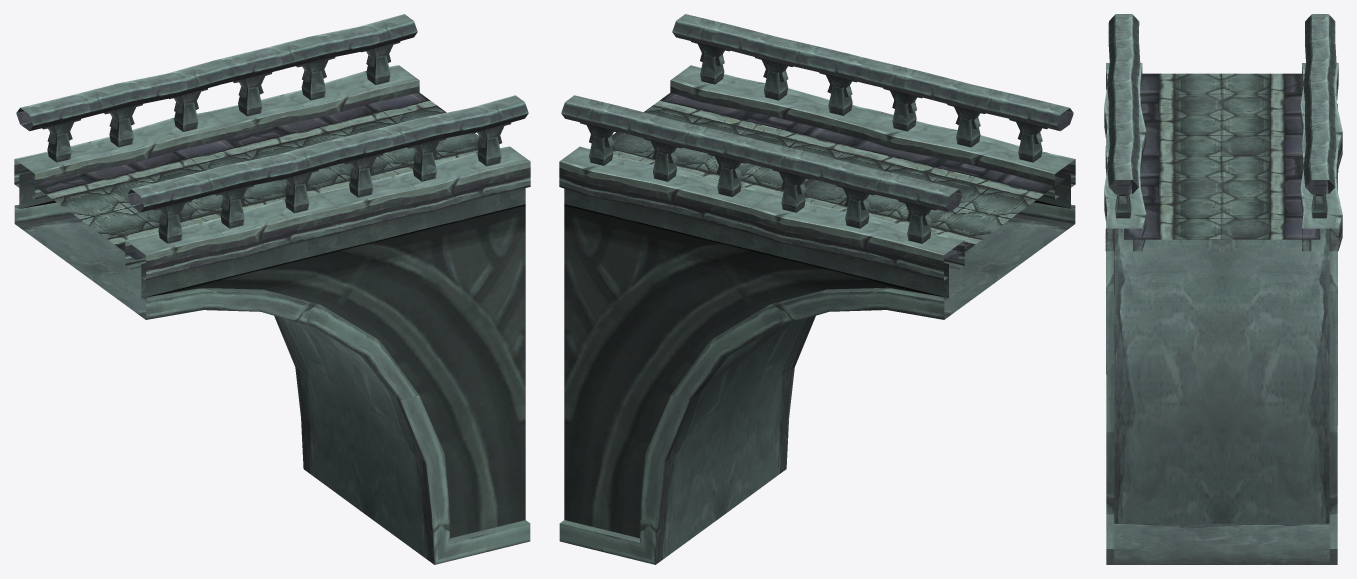
File: crypt_bridge_straight_01.fbx
3 renders of one model, left to right at view 1: azimuth 30°, elevation 25°; view 2: azimuth 150°, elevation 25°; view 3: azimuth 270°, elevation 25°, orthographic. The views are drawn at different scales.
Parts seen in each view (by area): view 1: crypt_bridge_straight_01-0; view 2: crypt_bridge_straight_01-0; view 3: crypt_bridge_straight_01-0.
Part boxes in pixels (<box>): crypt_bridge_straight_01-0: <box>14,14,530,564</box>; crypt_bridge_straight_01-0: <box>559,14,1075,564</box>; crypt_bridge_straight_01-0: <box>1104,14,1342,564</box>.
Bounding box in the file's own units: 8 × 8.66 × 4.86.
